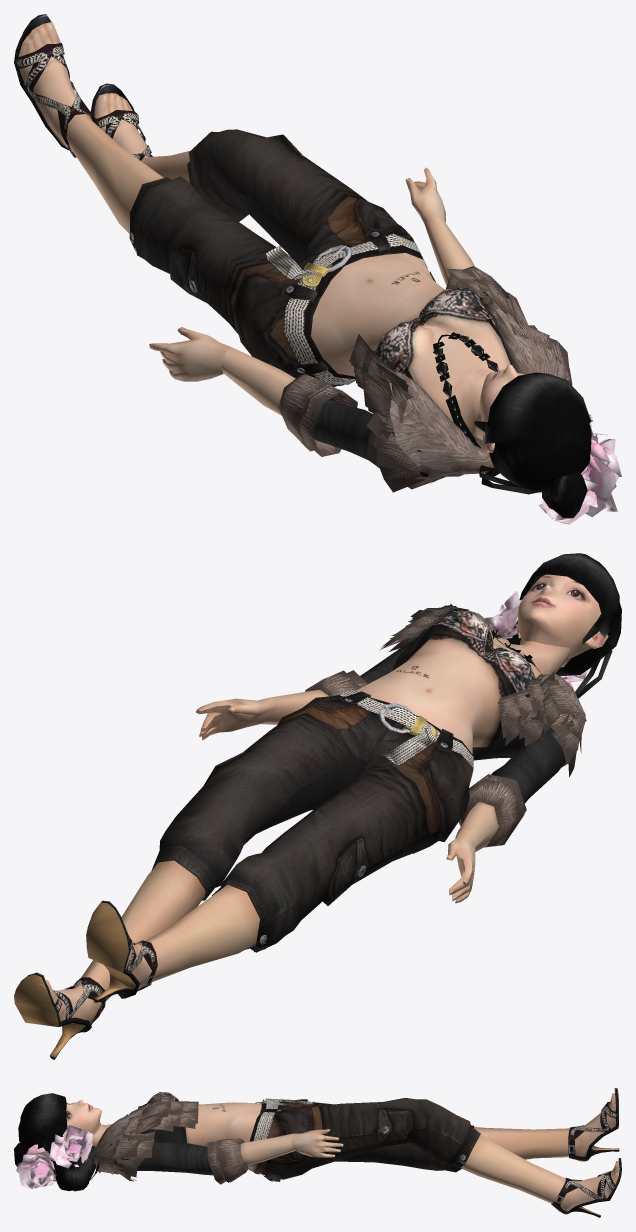
File: actor06.obj
3 renders of one model, top to bottom at view 1: azimuth 30°, elevation 25°; view 2: azimuth 150°, elevation 25°; view 3: azimuth 270°, elevation 25°, orthographic. The views are drawn at different scales.
Parts seen in each view (by area): view 1: torso, legs, hair, foot, hand01, hand, head; view 2: legs, torso, foot, hair, head, hand, hand01; view 3: legs, torso, hair, foot, hand, head.
Boxes of the visible parts, x1,y1,x2,y2 form: torso: [221, 217, 572, 492]; legs: [66, 104, 435, 387]; hair: [474, 372, 621, 524]; foot: [14, 14, 152, 160]; hand01: [149, 327, 230, 381]; hand: [405, 167, 445, 223]; head: [479, 365, 524, 452]; legs: [75, 689, 473, 1008]; torso: [261, 603, 586, 851]; foot: [14, 900, 157, 1059]; hair: [485, 553, 621, 698]; head: [516, 574, 608, 667]; hand: [196, 697, 275, 740]; hand01: [446, 829, 475, 903]; legs: [248, 1098, 569, 1203]; torso: [91, 1092, 295, 1184]; hair: [14, 1093, 100, 1191]; foot: [551, 1088, 621, 1217]; hand: [290, 1129, 343, 1157]; head: [66, 1099, 101, 1134].
Bounding box in the file's own units: 0.5294 × 0.3544 × 1.72.
Materials: 6 (6 with a texture image).
